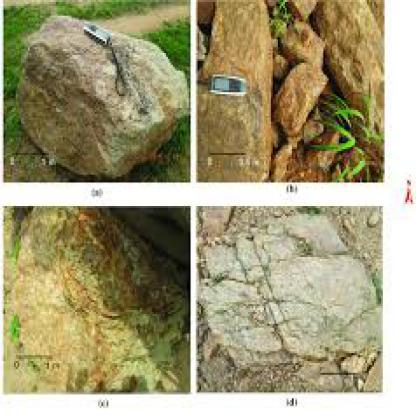Metamorphic_Quartize: (0, 205, 193, 393), (200, 221, 380, 382), (14, 7, 185, 176), (271, 47, 327, 149)
